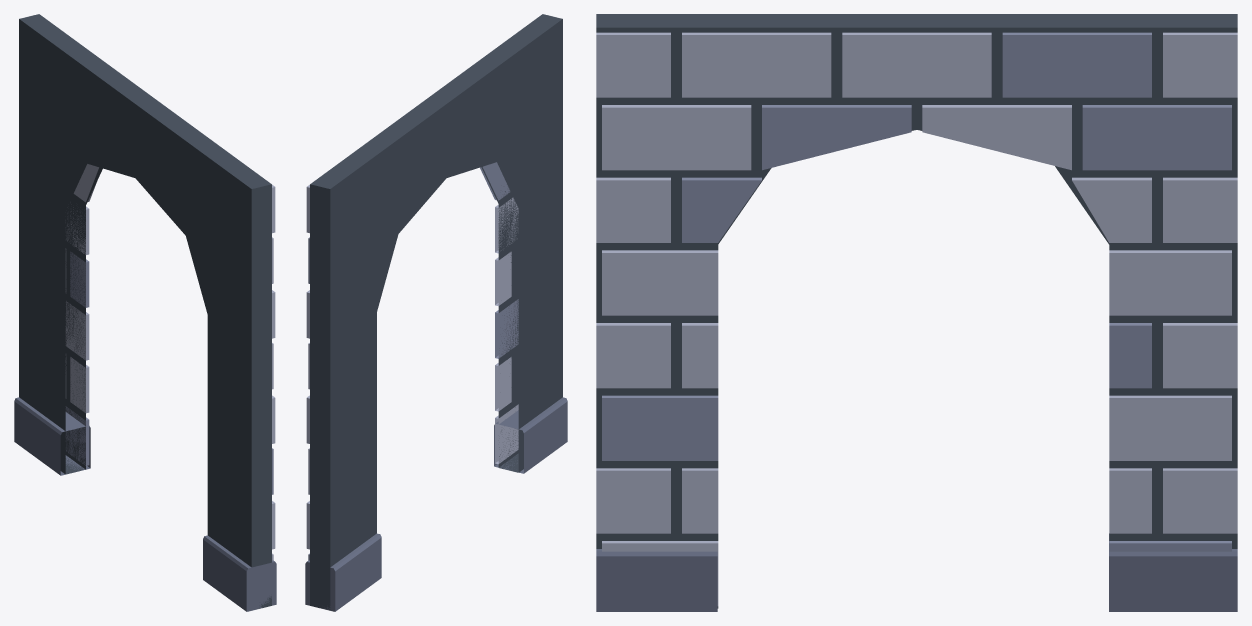
The model's file is WallDoorRound_Stone.fbx.
3 renders of one model, left to right at view 1: azimuth 30°, elevation 25°; view 2: azimuth 150°, elevation 25°; view 3: azimuth 270°, elevation 25°, orthographic. The views are drawn at different scales.
Parts seen in each view (by area): view 1: WallDoorRound_Stone; view 2: WallDoorRound_Stone; view 3: WallDoorRound_Stone.
Part boxes in pixels (box(x1,y1,x2,y2)): WallDoorRound_Stone: box(14, 14, 276, 611); WallDoorRound_Stone: box(305, 14, 567, 611); WallDoorRound_Stone: box(596, 14, 1237, 611).
Bounding box in the file's own units: 0.1488 × 2 × 2.
